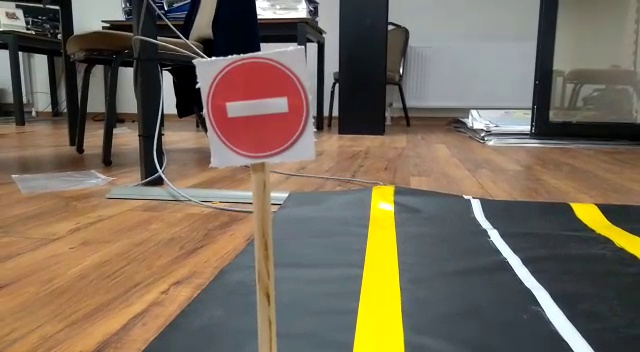girisi_olmayan_yol: (202, 56, 313, 166)
